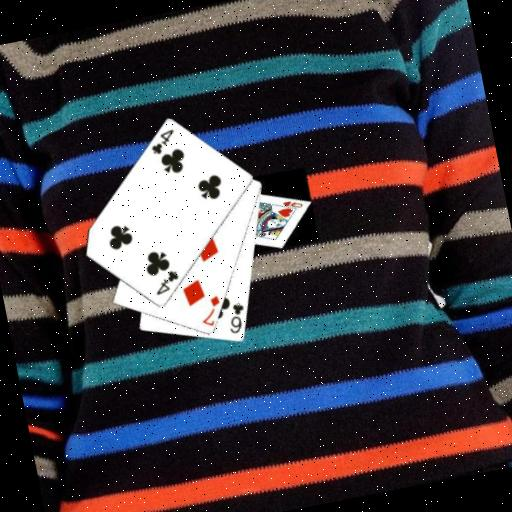4C: (149, 266, 184, 298), (145, 126, 180, 158)
6C: (222, 299, 250, 337)
7D: (195, 293, 226, 330)
